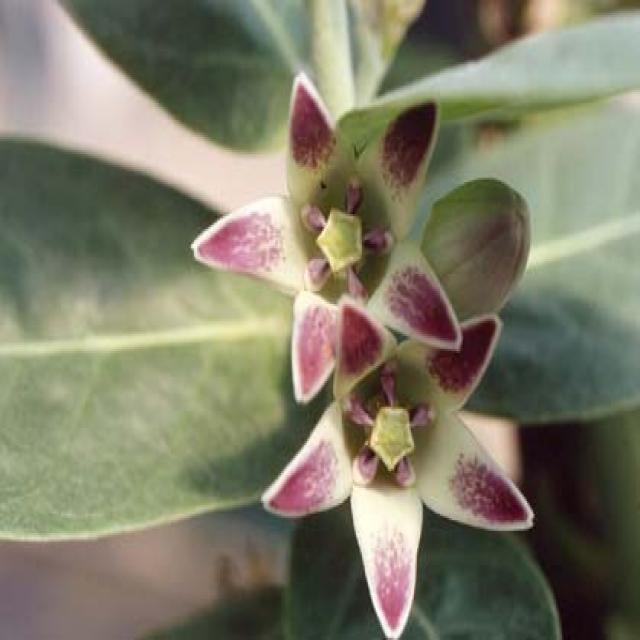Poisonous-Calatropis: (183, 58, 532, 640)
